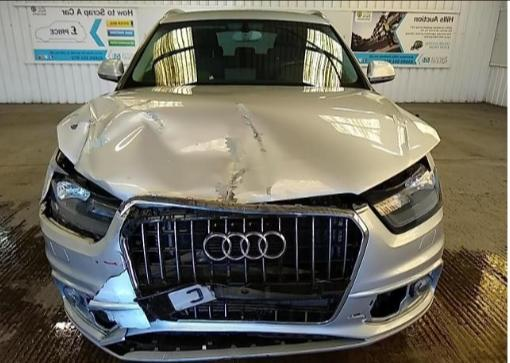Broken part: (37, 147, 447, 362), (53, 83, 442, 212), (118, 195, 368, 325), (47, 170, 121, 238), (372, 167, 441, 230)
Dent: (135, 257, 321, 319), (238, 103, 366, 190), (88, 119, 235, 193), (141, 103, 249, 140), (86, 94, 124, 146), (240, 142, 275, 196)
Flaking: (212, 134, 252, 207), (234, 101, 267, 155), (142, 110, 166, 133), (139, 188, 170, 198), (265, 184, 272, 196), (183, 194, 196, 200)
Missing part: (368, 274, 431, 319), (64, 285, 118, 329)
Paint chip: (68, 122, 78, 130), (349, 311, 361, 317), (368, 298, 373, 307)
Scratch: (240, 104, 262, 150), (223, 169, 243, 202), (124, 98, 151, 108), (94, 260, 124, 266)
